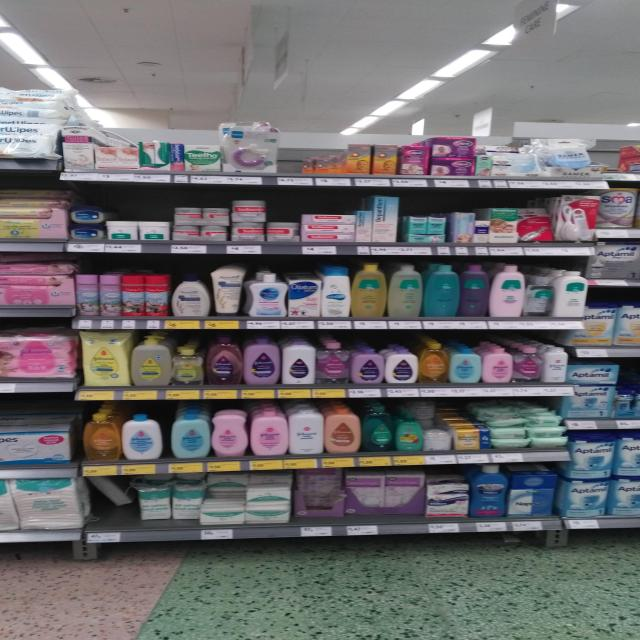empty: (279, 129, 303, 177)
